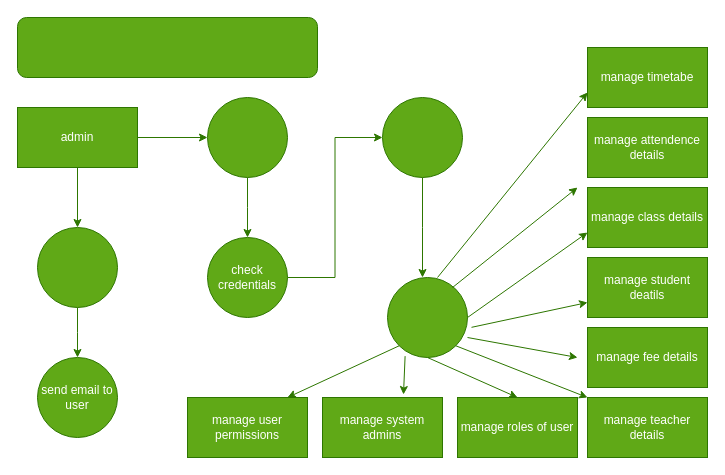
This 725x475 diagram has some shape labels left out. The shapes that lost their labels are listed below. From the top down, each one's box as (x1, y1, x2, y2) in pixels, then its label:
(16, 16, 318, 78): student information system
(206, 96, 288, 178): login to system
(382, 96, 462, 178): check roles for access
(36, 226, 118, 308): forgot password
(386, 276, 468, 358): manage modules
